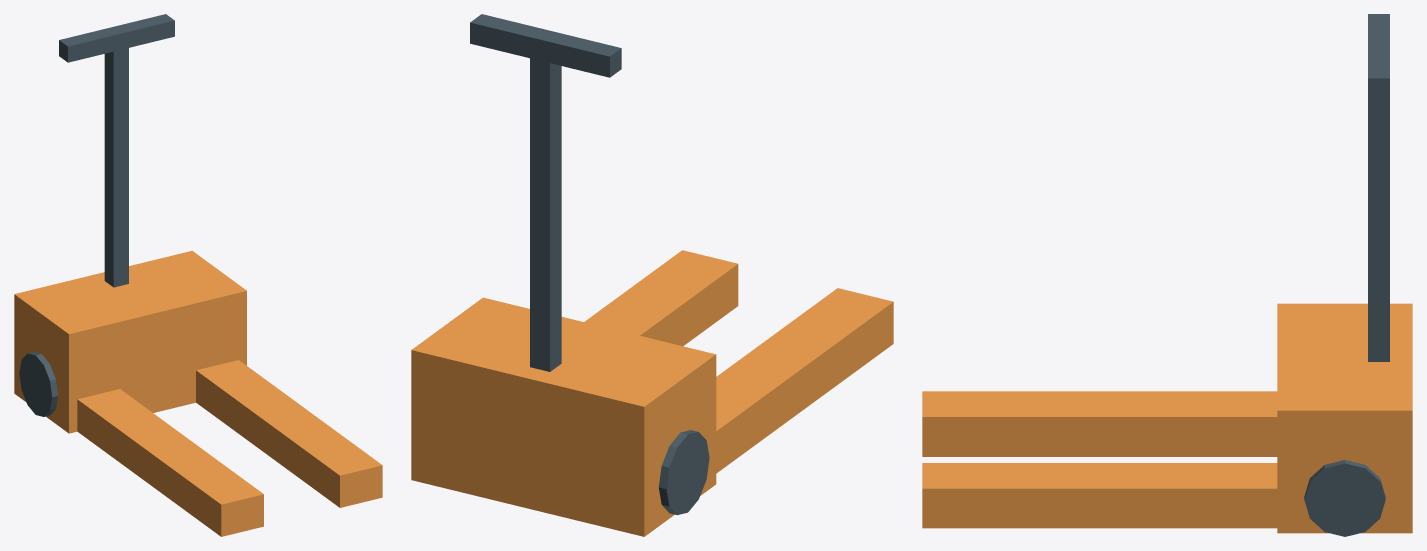
File: manual-pallet-jack.glb
3 views of the same model, side by side, from view 1: azimuth 30°, elevation 25°; view 2: azimuth 150°, elevation 25°; view 3: azimuth 270°, elevation 25° (orthographic). The views are drawn at different scales.
Parts seen in each view (by area): view 1: orange, dark; view 2: orange, dark; view 3: orange, dark.
Part boxes in pixels (<box>): orange: <box>14,250,382,536</box>; dark: <box>19,14,174,416</box>; orange: <box>411,250,893,536</box>; dark: <box>470,14,709,515</box>; orange: <box>922,303,1412,533</box>; dark: <box>1304,14,1389,536</box>.
Size of the model in its own units: 0.8 by 1.42 by 1.45.
